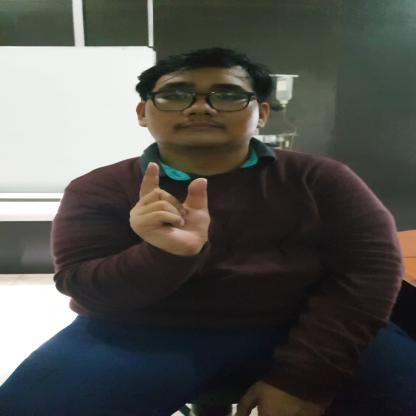U: (127, 161, 212, 256)
